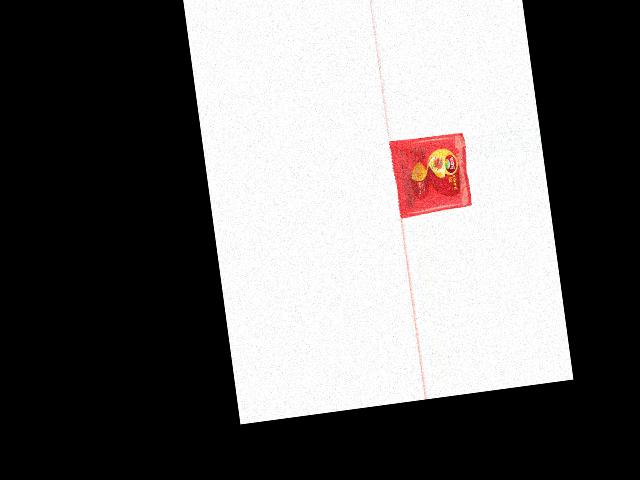cheese: (388, 131, 472, 216)
